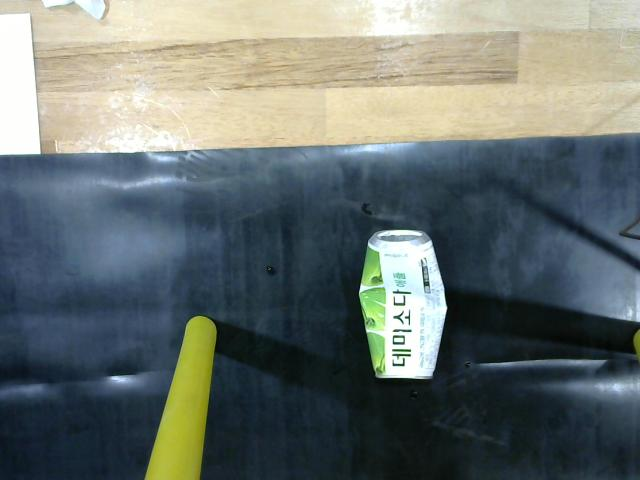can: (353, 224, 455, 381)
